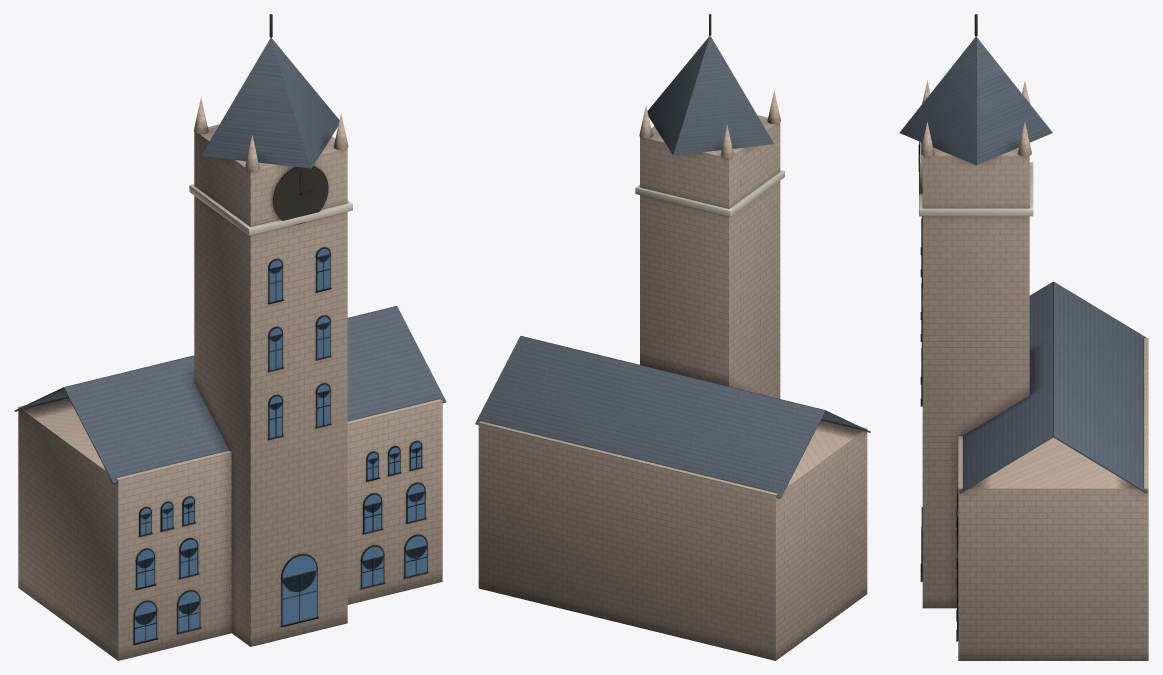
Rendered from correos_torre.glb.
3 views of the same model, side by side, from view 1: azimuth 30°, elevation 25°; view 2: azimuth 150°, elevation 25°; view 3: azimuth 270°, elevation 25° (orthographic). The views are drawn at different scales.
Visible parts, largest first — view 1: correos_torre; view 2: correos_torre; view 3: correos_torre.
Boxes of the visible parts, x1,y1,x2,y2 form: correos_torre: (14,14,446,660); correos_torre: (475,14,870,660); correos_torre: (899,14,1148,660).
Bounding box in the file's own units: 30.8 × 53 × 20.96.
Materials: 1 (1 with a texture image).
